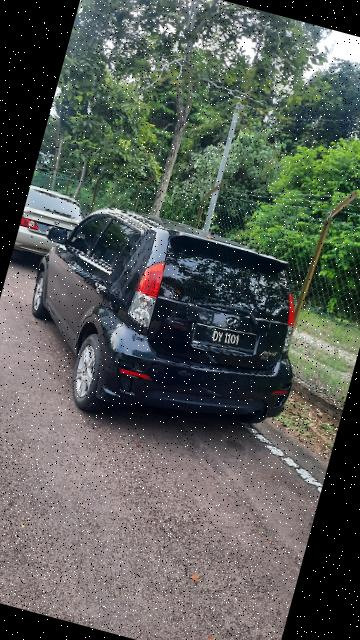License_Plate: (187, 317, 265, 364)
car: (1, 189, 331, 463), (11, 174, 104, 280)
